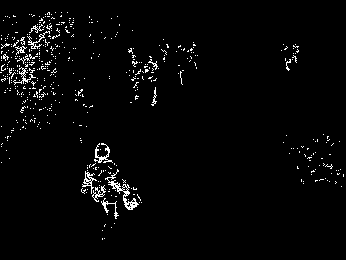person: (81, 141, 142, 246)
